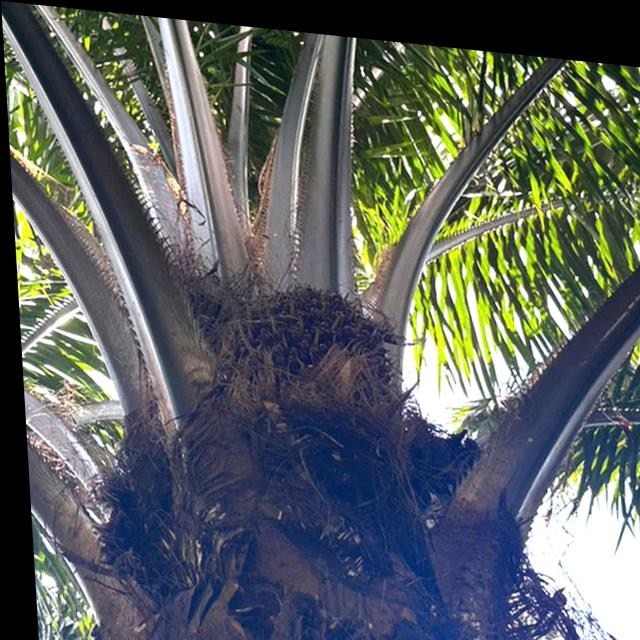almost: (202, 260, 400, 439)
